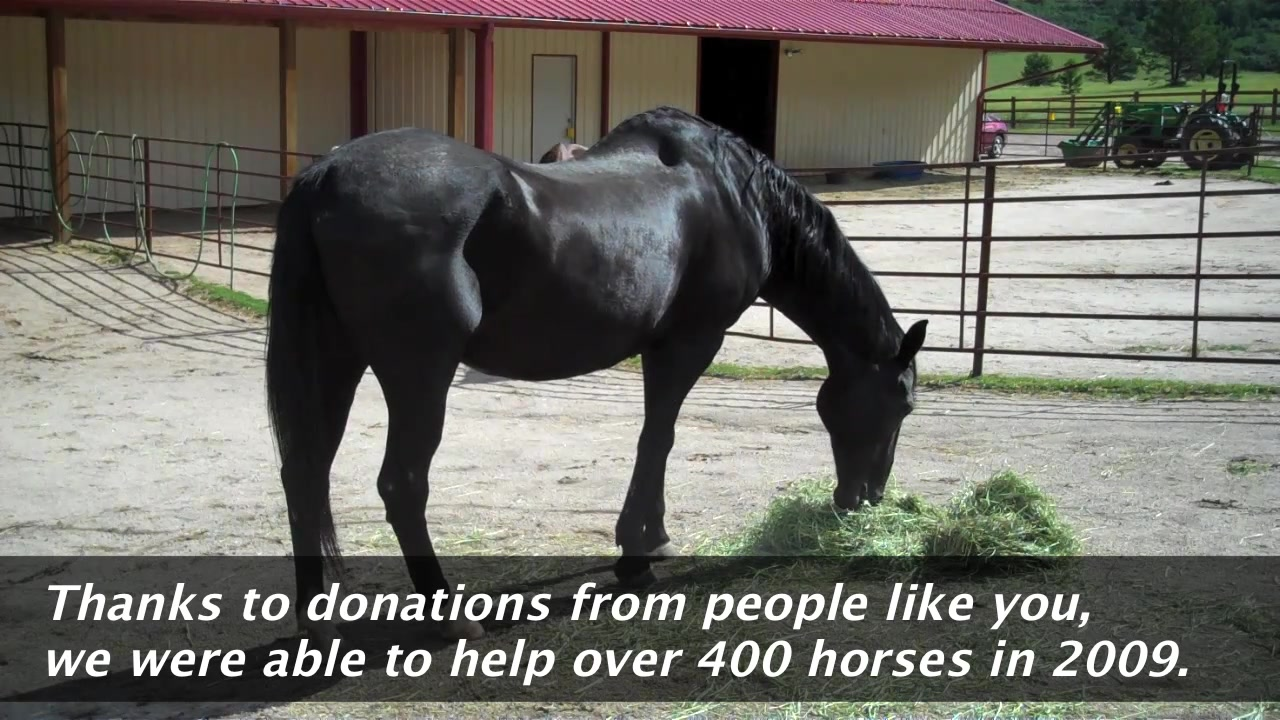horse: (266, 109, 931, 655)
